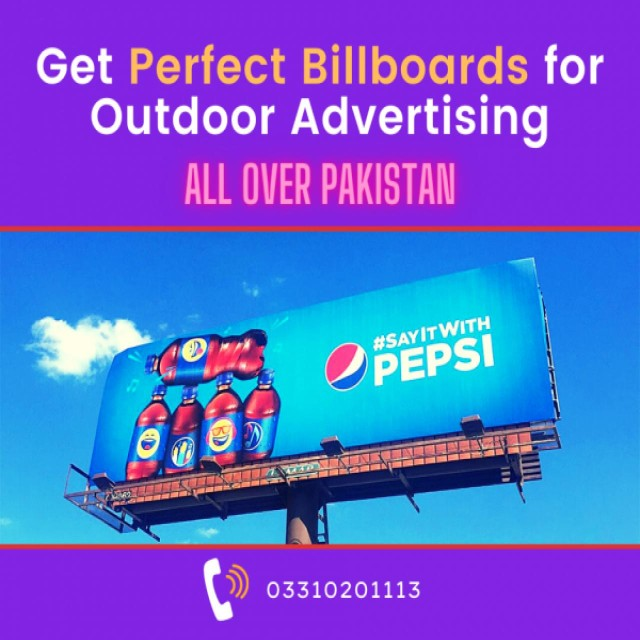pepsi: (321, 341, 369, 389)
